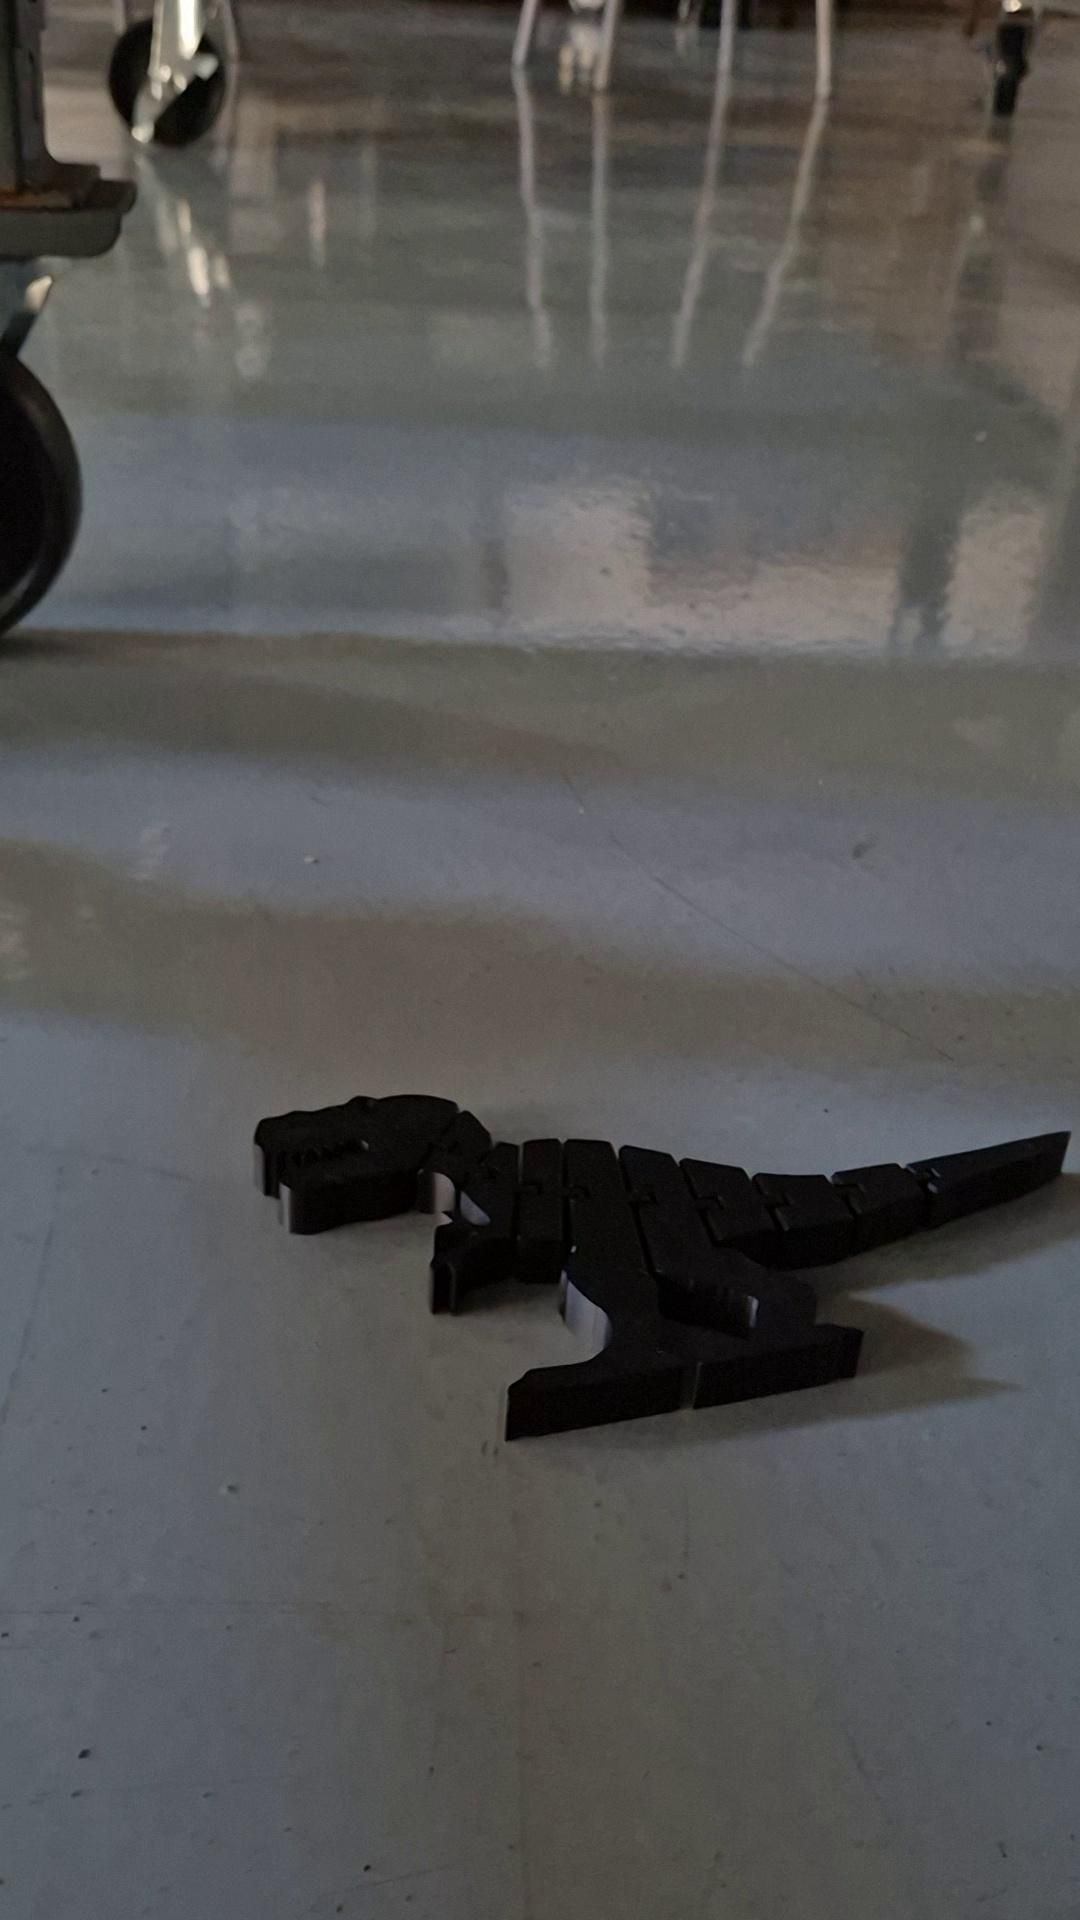dinosaur: (249, 1093, 1073, 1447)
